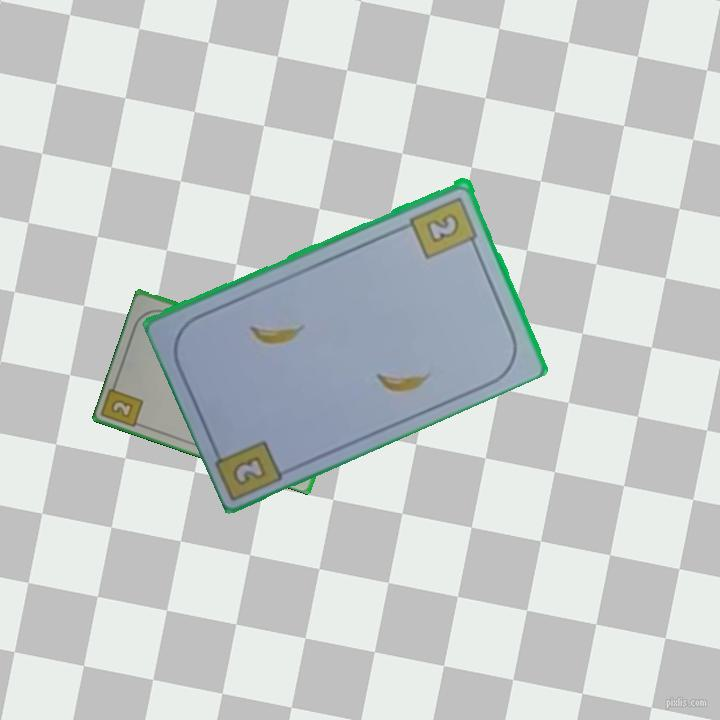2b: (407, 192, 481, 261), (232, 455, 266, 485), (107, 396, 136, 420)
